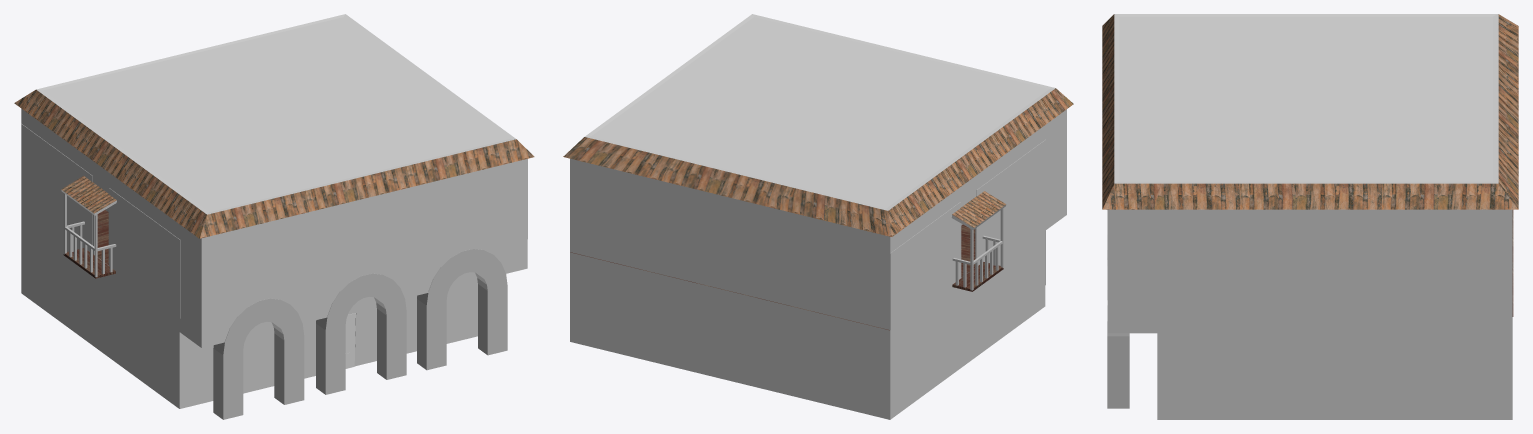
File: H_w_Int 1.fbx
3 renders of one model, left to right at view 1: azimuth 30°, elevation 25°; view 2: azimuth 150°, elevation 25°; view 3: azimuth 270°, elevation 25°, orthographic. The views are drawn at different scales.
Visible parts, largest first — view 1: Cube; view 2: Cube; view 3: Cube.
Part boxes in pixels (<box>): Cube: <box>14,14,534,419</box>; Cube: <box>563,14,1073,419</box>; Cube: <box>1102,14,1518,419</box>.
Bounding box in the file's own units: 869 × 485 × 789.
